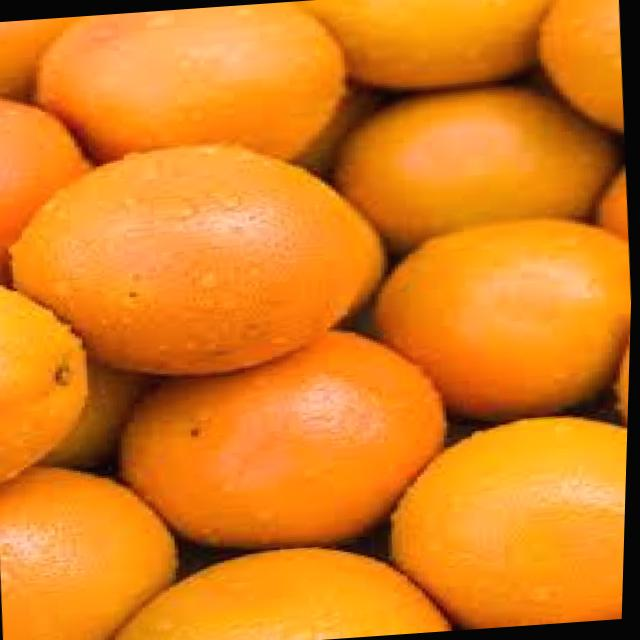orange: (0, 126, 406, 388), (112, 328, 448, 558), (367, 211, 635, 427), (30, 0, 349, 175), (383, 412, 630, 631), (330, 81, 620, 255), (97, 538, 448, 640), (0, 459, 184, 640), (292, 0, 580, 98)
